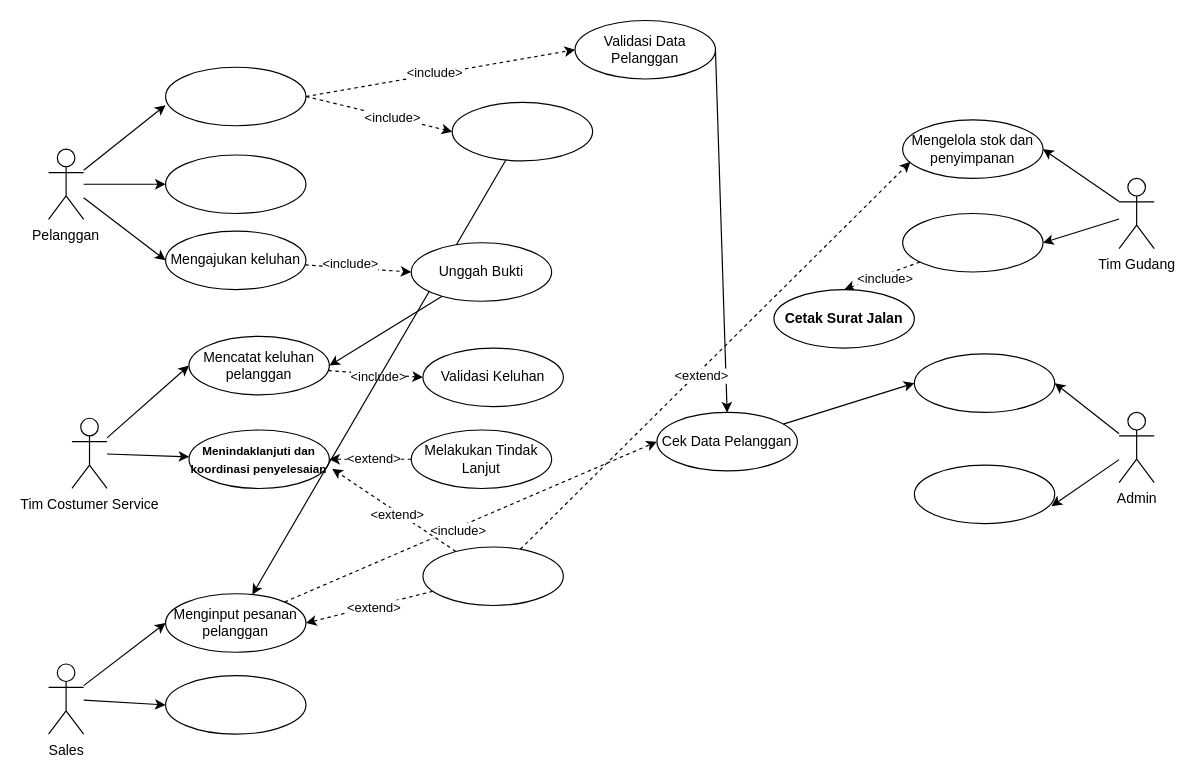
The diagram is 1195 pixels wide and 779 high, and some of its shapes have lost their labels. Each missing label, with the box of its shape:
Cek Ketersediaan Stok: (451, 101, 593, 161)
Koordinasi: (422, 546, 563, 605)
Melakukan pemesanan: (164, 66, 306, 126)
Melaporkan feedback pelanggan: (164, 675, 306, 734)
Melihat riwayat pembelian: (164, 154, 306, 214)
Mengakses laporan analitik: (913, 464, 1055, 524)
Mengelola data pelanggan: (913, 353, 1055, 412)
Menyiapkan pengiriman: (901, 212, 1043, 272)
